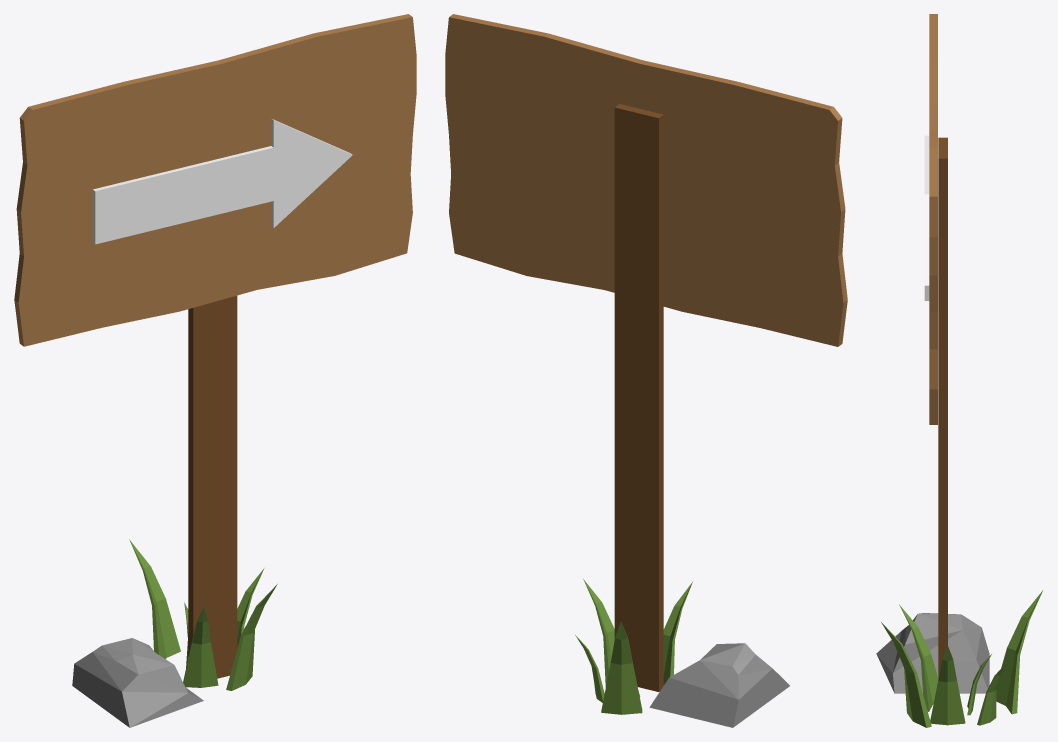
Rendered from signright.fbx.
3 renders of one model, left to right at view 1: azimuth 30°, elevation 25°; view 2: azimuth 150°, elevation 25°; view 3: azimuth 270°, elevation 25°, orthographic.
Parts seen in each view (by area): view 1: Sign11, arrow; view 2: Sign11; view 3: Sign11, arrow.
Part boxes in pixels (x1,y1,x2,y2): Sign11: [14, 14, 416, 727]; arrow: [92, 118, 352, 244]; Sign11: [445, 14, 847, 727]; Sign11: [876, 14, 1042, 727]; arrow: [924, 135, 929, 300].
Bounding box in the file's own units: 144 × 215 × 53.24.
